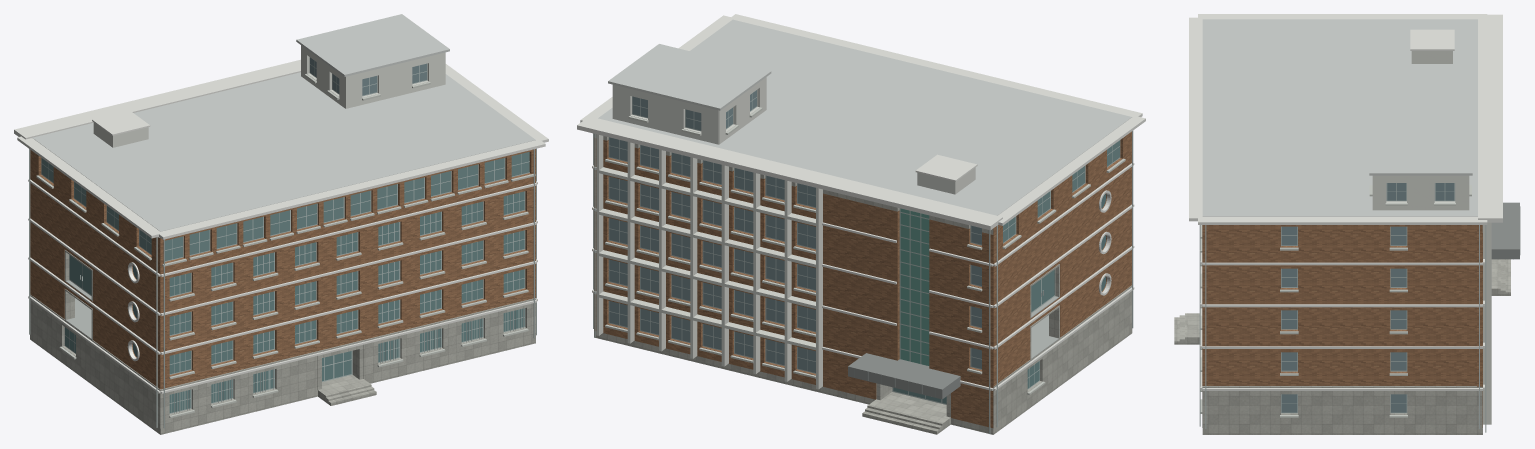
3 renders of one model, left to right at view 1: azimuth 30°, elevation 25°; view 2: azimuth 150°, elevation 25°; view 3: azimuth 270°, elevation 25°, orthographic. The views are drawn at different scales.
Parts seen in each view (by area): view 1: west__brick, west__roof, west__band, west__stone, west__glass, west__frame, west__upperglass, west__sill, west__plaster, west__steel, west__backglass, west__stair-east (+3 smaller); view 2: west__brick, west__roof, west__plaster, west__band, west__backglass, west__stone, west__frame, west__coreglass, west__sill, west__entry, west__steel, west__threshold-west-gate (+4 smaller); view 3: west__roof, west__brick, west__band, west__stone, west__plaster, west__backglass, west__entry, west__steel, west__sill, west__frame, west__stair-west-gate, west__stair-east.
Boxes of the visible parts, <box> form: west__brick: <box>30,149,535,389</box>; west__roof: <box>32,14,535,231</box>; west__band: <box>14,59,548,393</box>; west__stone: <box>30,250,535,434</box>; west__glass: <box>65,191,524,412</box>; west__frame: <box>41,57,529,413</box>; west__upperglass: <box>41,152,529,260</box>; west__sill: <box>36,74,535,418</box>; west__plaster: <box>93,45,445,147</box>; west__steel: <box>29,148,536,428</box>; west__backglass: <box>310,57,426,95</box>; west__stair-east: <box>323,383,376,405</box>; west__brick: <box>594,131,1131,427</box>; west__roof: <box>598,19,1131,215</box>; west__plaster: <box>596,77,975,389</box>; west__band: <box>577,14,1145,390</box>; west__backglass: <box>609,90,981,372</box>; west__stone: <box>594,134,1132,434</box>; west__frame: <box>608,90,1120,404</box>; west__coreglass: <box>900,208,929,365</box>; west__sill: <box>605,107,1125,394</box>; west__entry: <box>848,353,960,399</box>; west__steel: <box>593,131,1133,433</box>; west__threshold-west-gate: <box>870,392,950,428</box>; west__roof: <box>1202,19,1477,216</box>; west__brick: <box>1202,225,1482,427</box>; west__band: <box>1189,14,1502,390</box>; west__stone: <box>1202,225,1482,434</box>; west__plaster: <box>1372,51,1491,424</box>; west__backglass: <box>1281,183,1454,412</box>; west__entry: <box>1491,202,1519,259</box>; west__steel: <box>1199,225,1486,432</box>; west__sill: <box>1199,185,1471,417</box>; west__frame: <box>1281,183,1455,413</box>; west__stair-west-gate: <box>1495,259,1510,295</box>; west__stair-east: <box>1174,313,1189,344</box>.
Size of the model in its own units: 35.75 by 20.6 by 25.11.
Materials: 16 (2 with a texture image).
